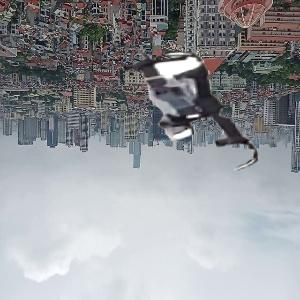drone: (117, 34, 266, 183)
